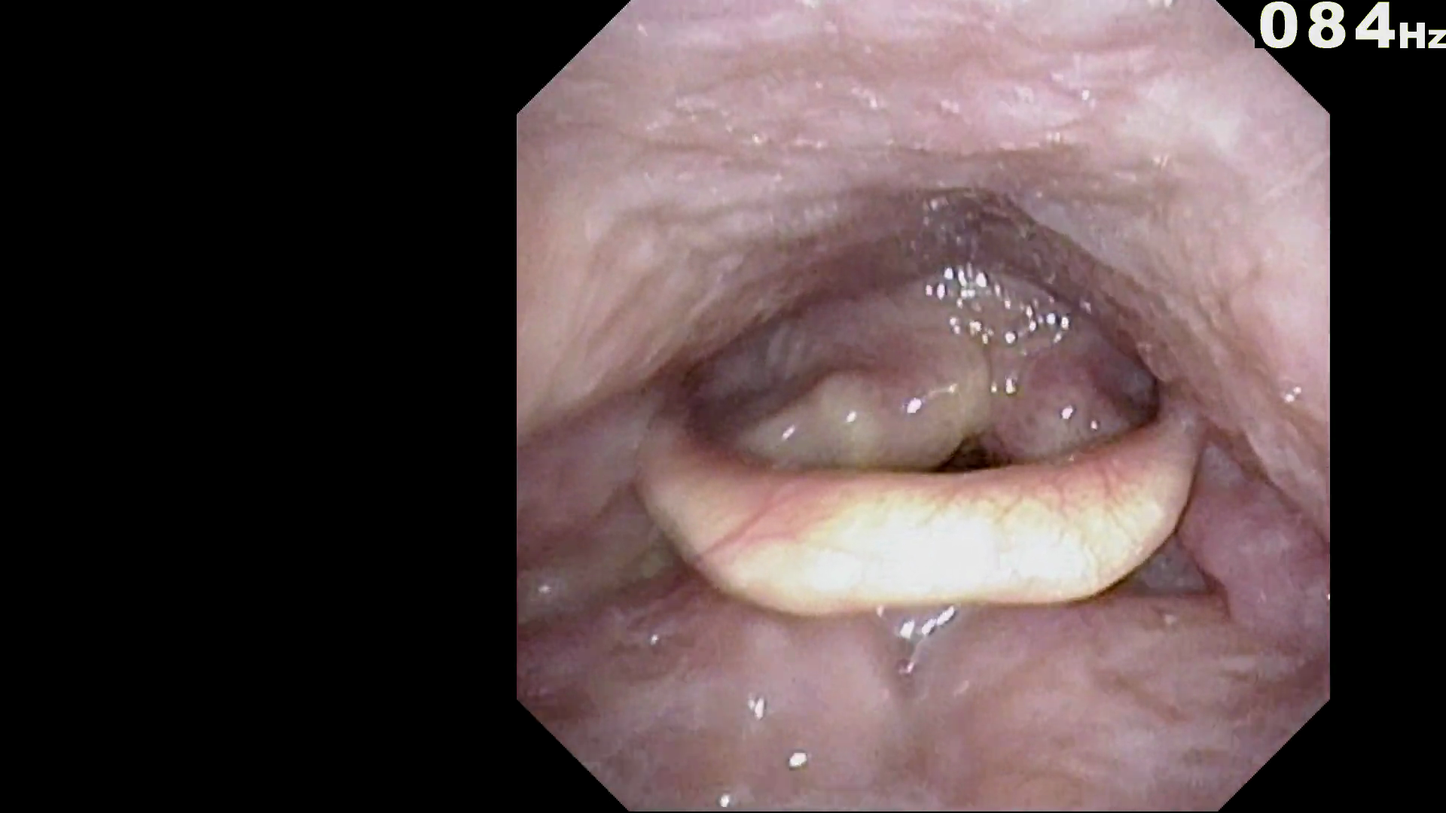epiglottis: (624, 349, 1221, 644)
trachea: (939, 404, 1024, 495)
